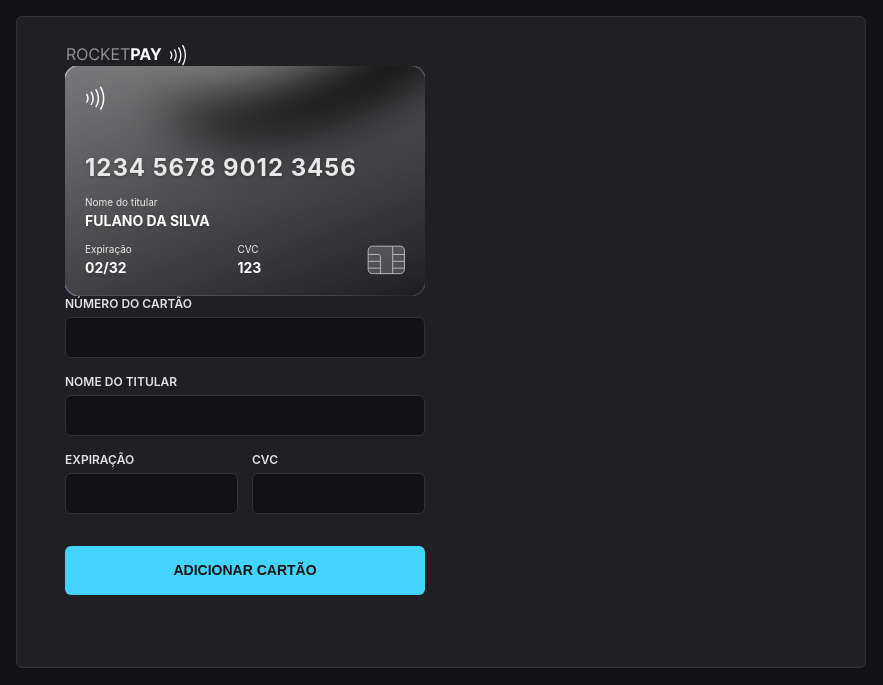
Test case: App Tests › Change card holder
The width and height of the screenshot is (883, 685).
Type "FULANO DA COSTA" into the field with id "card-holder".
click(245, 416); type("FULANO DA COSTA")  # box 65,395 -> 425,436
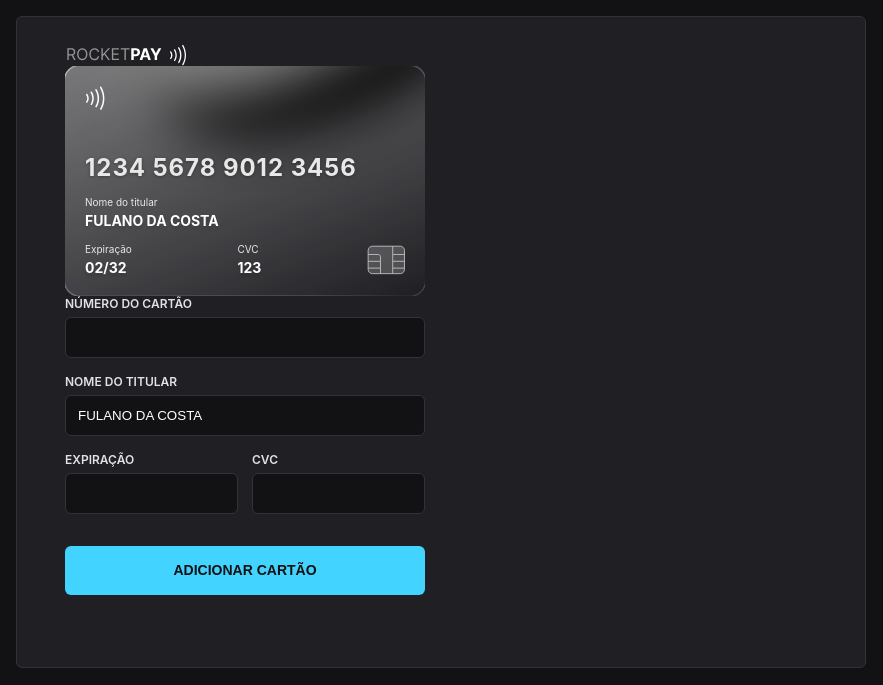
Expected: the text "FULANO DA COSTA" is shown, 85,212 -> 219,229
